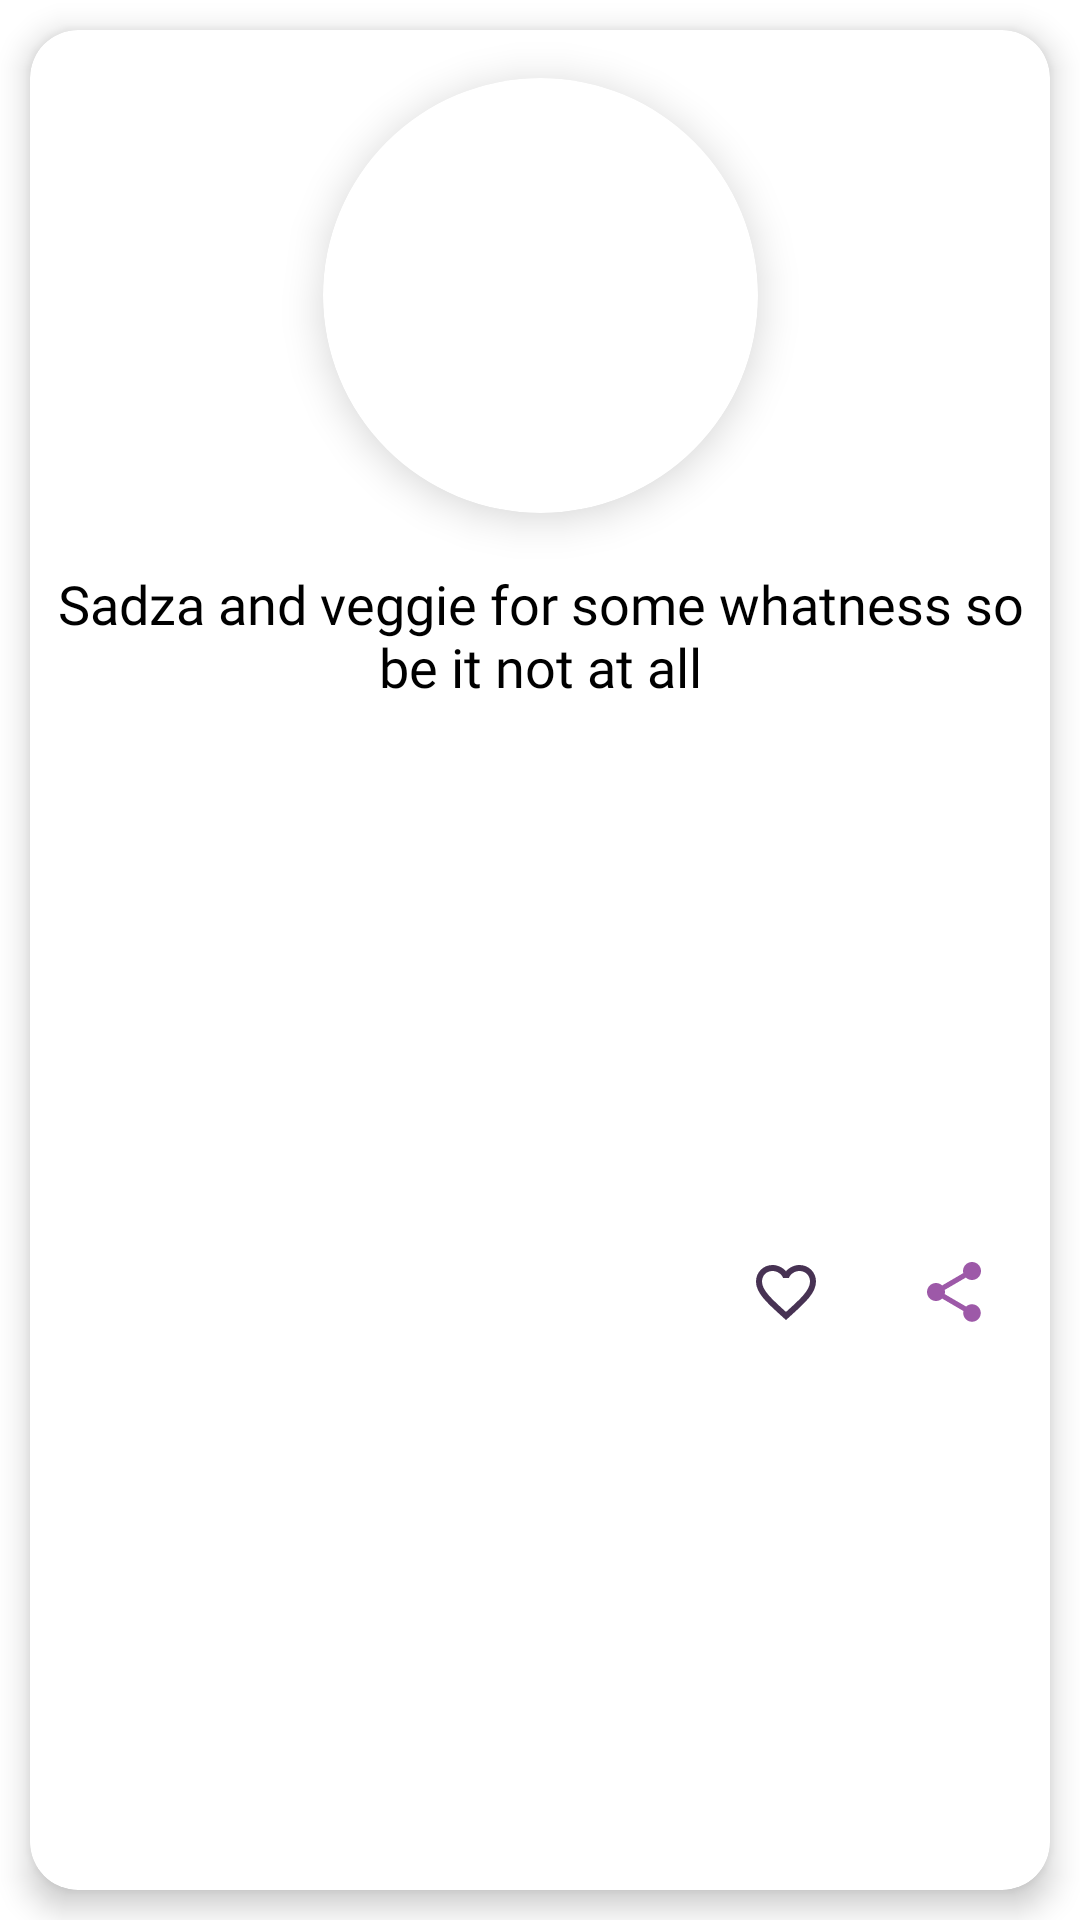

Where icons sit on this 1080px x 1920px app screen, as [left=x1, top=y1, right=x2, bottom=y2]:
share: [left=927, top=1262, right=981, bottom=1322]
